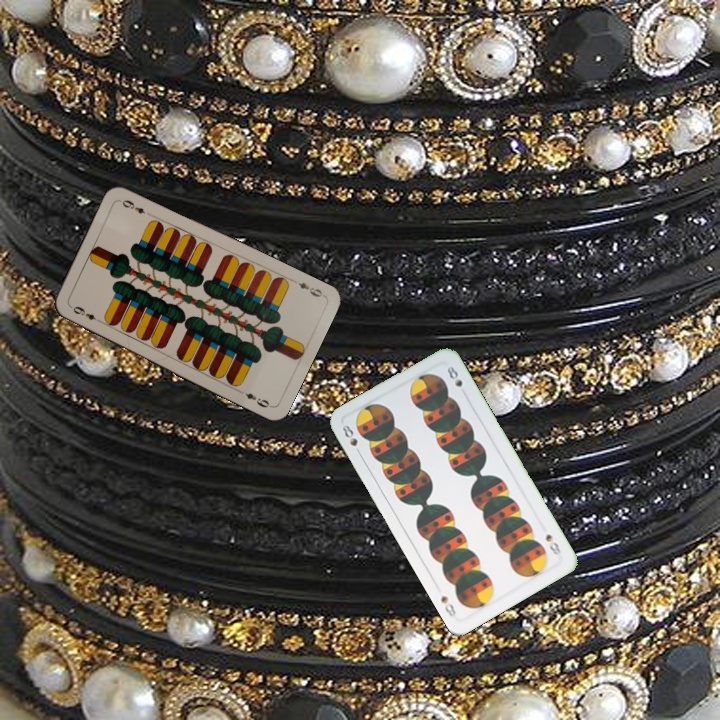E9: (66, 302, 105, 326), (294, 278, 325, 300)
S8: (337, 420, 364, 458), (542, 529, 563, 557)
